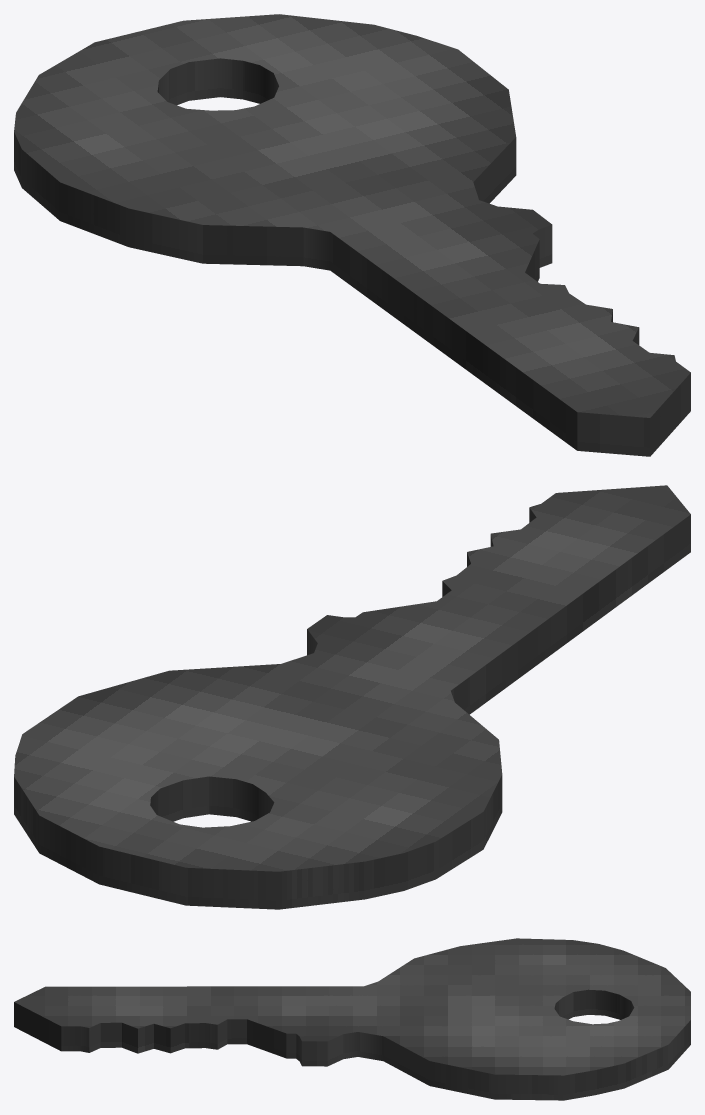
File: key_mp_1_2.glb
3 renders of one model, top to bottom at view 1: azimuth 30°, elevation 25°; view 2: azimuth 150°, elevation 25°; view 3: azimuth 270°, elevation 25°, orthographic. The views are drawn at different scales.
Parts seen in each view (by area): view 1: key_mp_1_2; view 2: key_mp_1_2; view 3: key_mp_1_2.
Boxes of the visible parts, x1,y1,x2,y2 form: key_mp_1_2: (14,14,690,456); key_mp_1_2: (14,485,690,909); key_mp_1_2: (14,938,690,1100).
Size of the model in its own units: 0.0352 by 0.00301 by 0.0735.
1 material, 1 textured.
